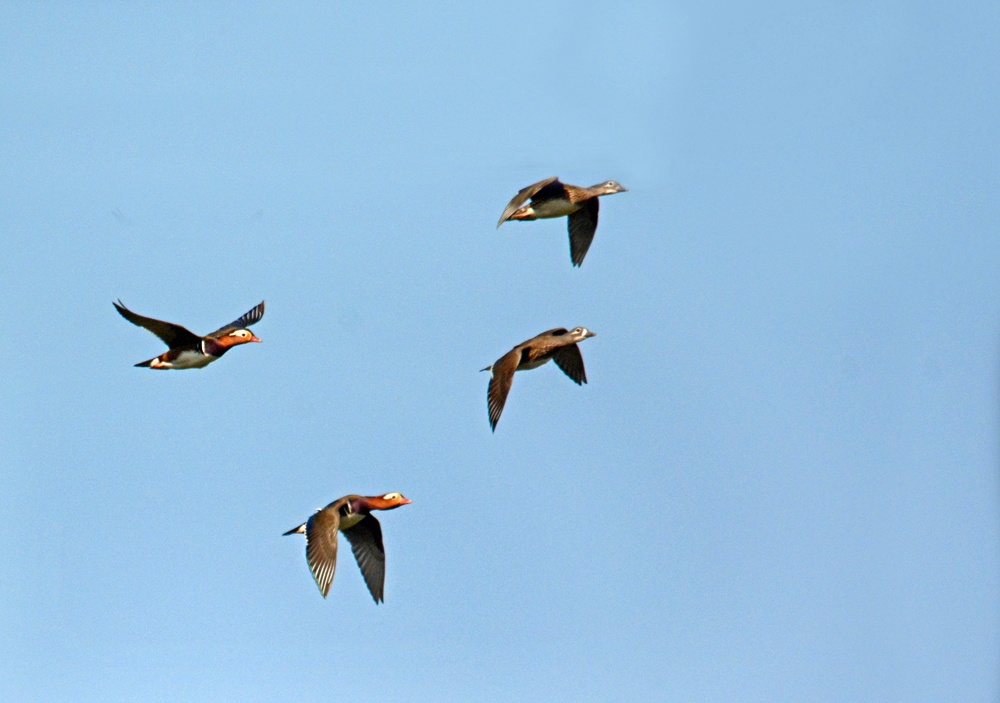bird: (103, 290, 270, 384), (281, 489, 414, 603), (467, 323, 600, 430), (485, 175, 624, 270)
